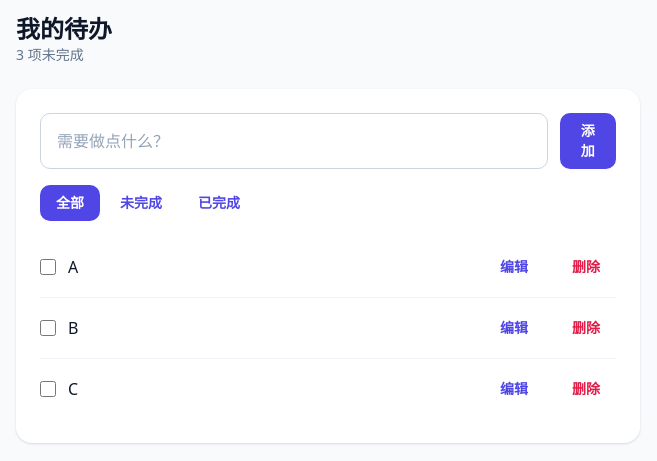
Test: 待办管理交互 (todo-management, 第 7 组) › removes a todo and keeps the order of the rest (7.9)
Expected: the text "A" is shown, [68,256,78,278]
Click the 2nd button "删除" at (586, 328), box [556,310,616,346]
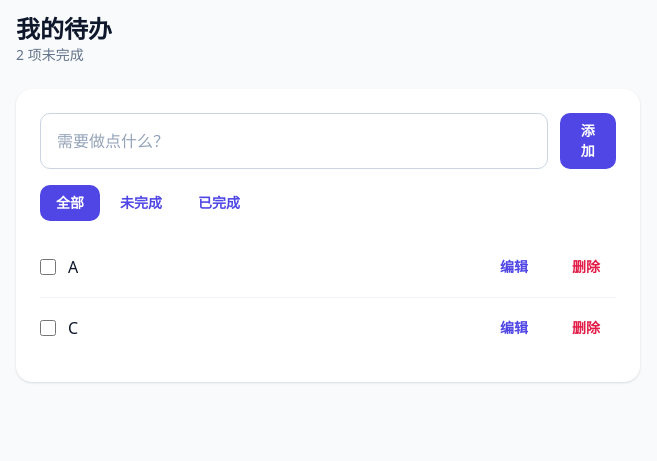
Expected: the text "B" is gone
Expected: the elements with test id "todo-title" read "A", "C", in this order, [68,256,78,278]; [68,317,78,339]
